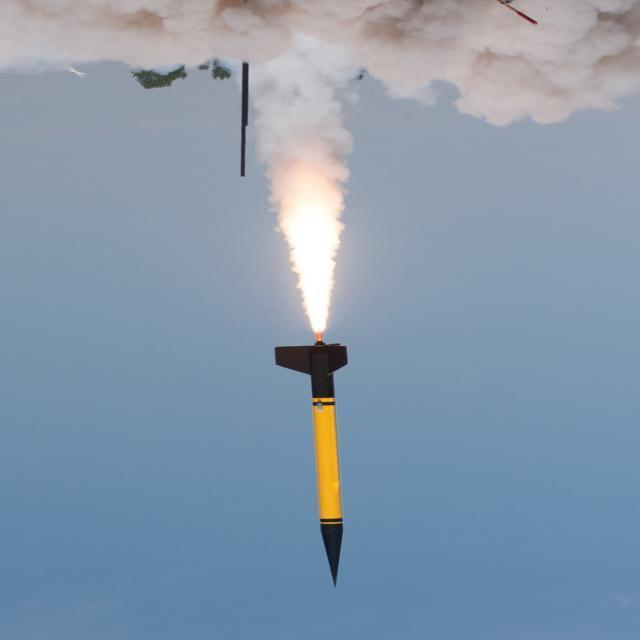missile: (273, 341, 353, 588), (310, 370, 354, 612)
